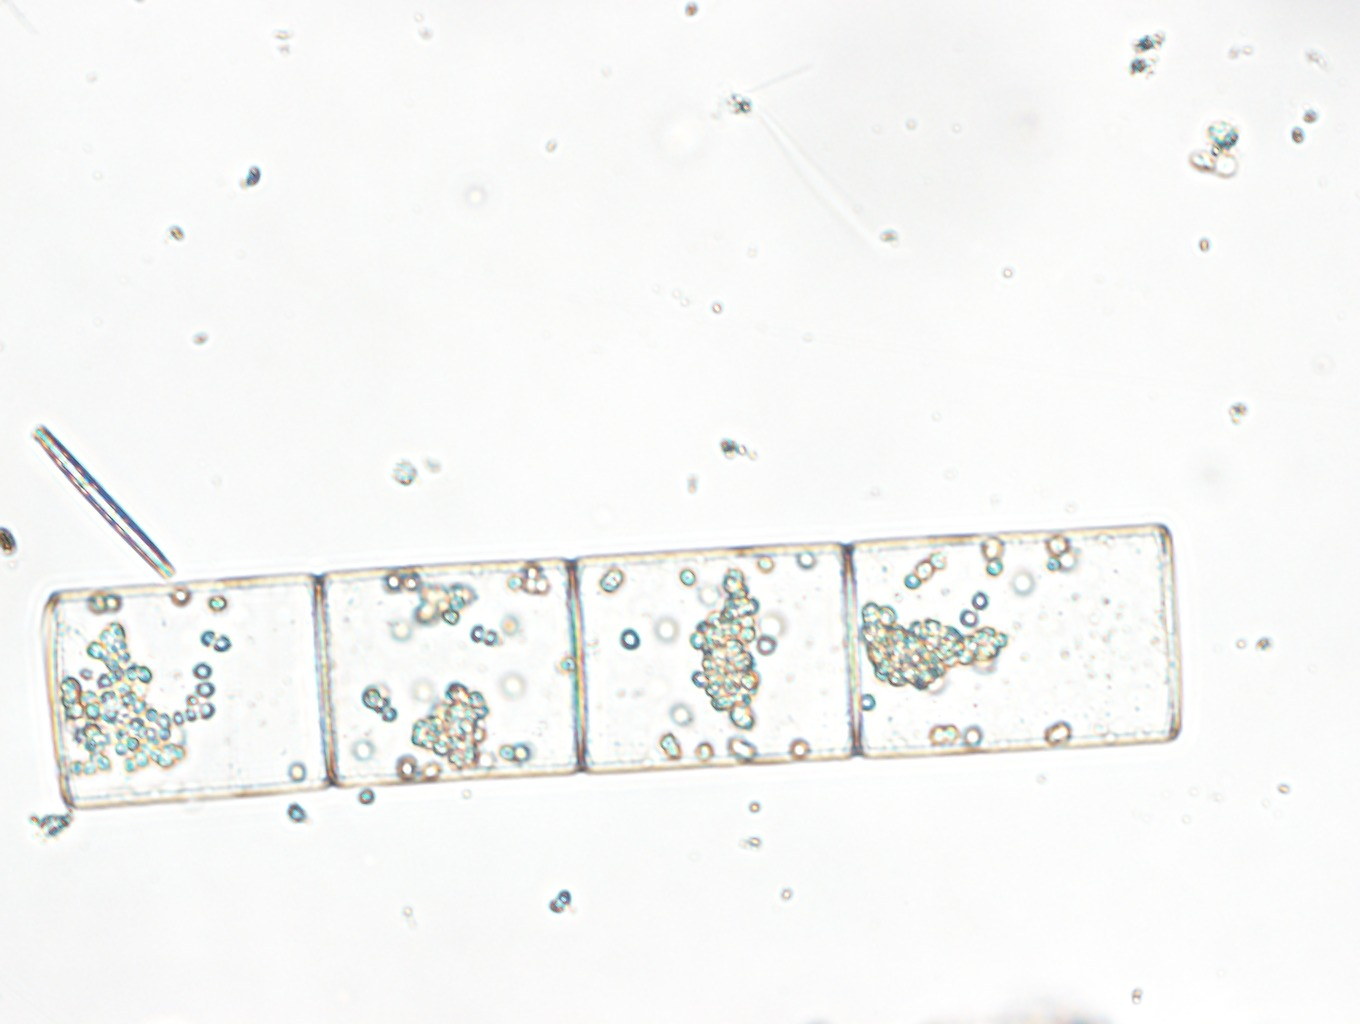guinardia flaccida: (39, 501, 1179, 813)
